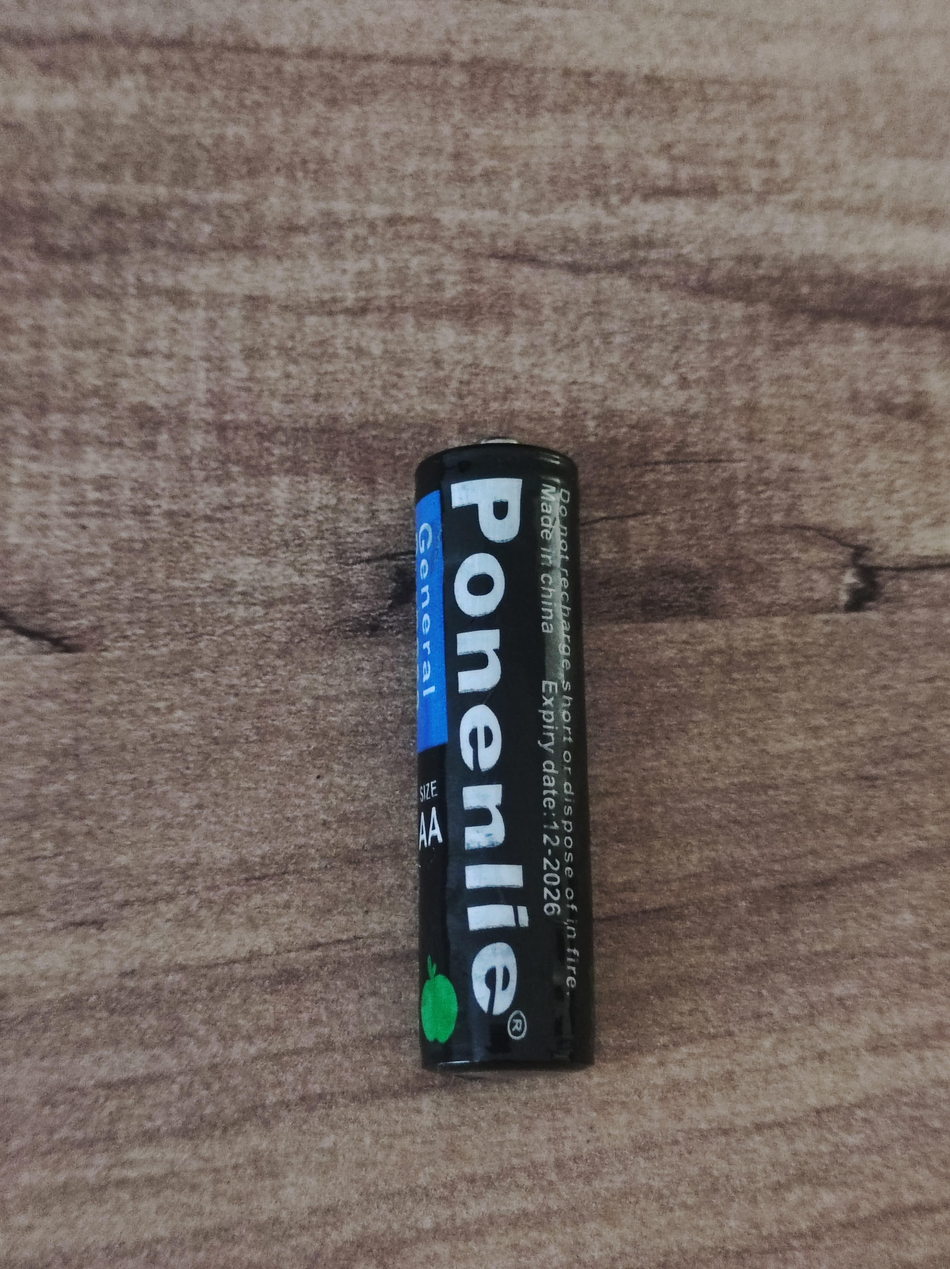AA: (412, 437, 595, 1073)
